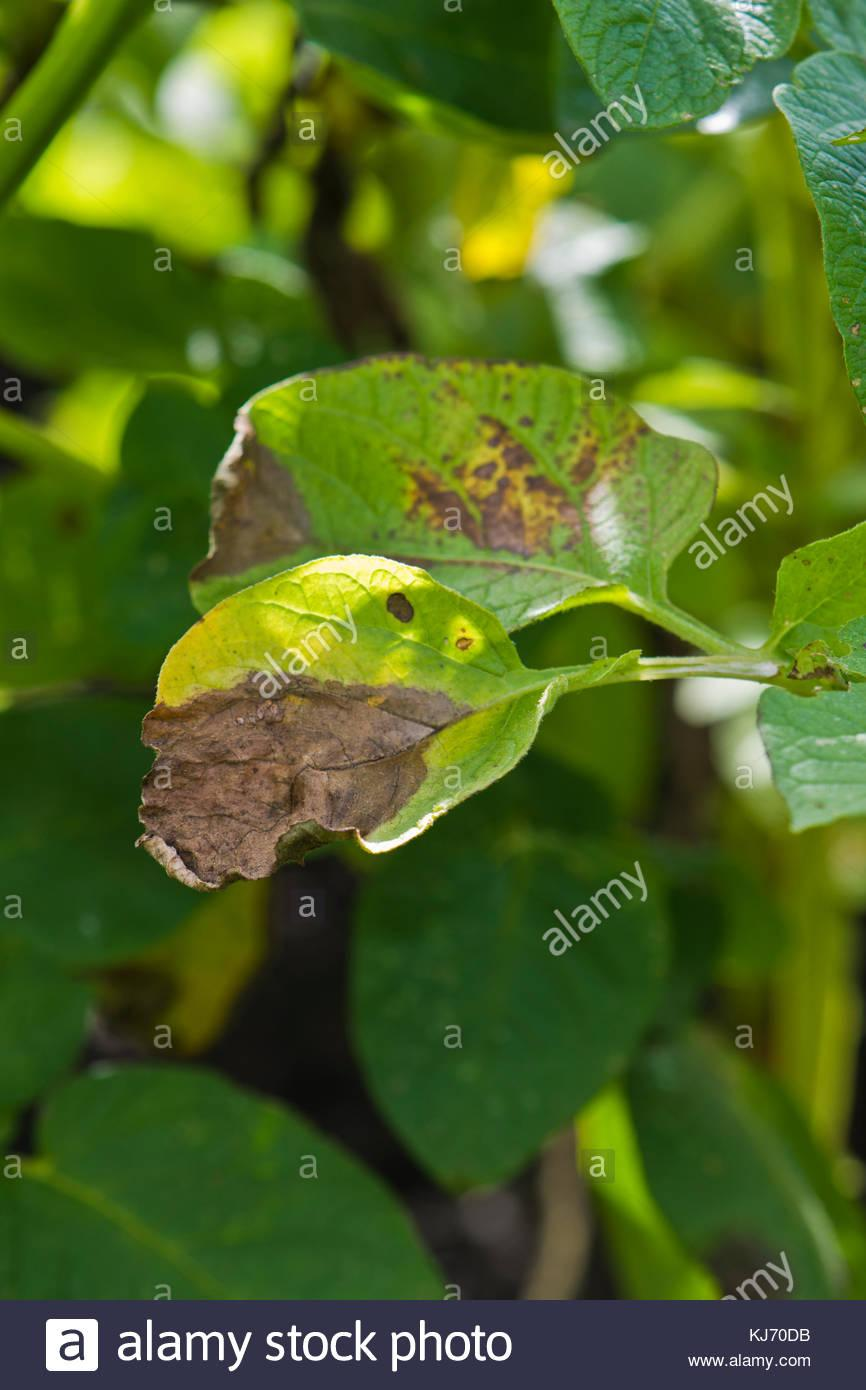Potato leaf late blight: (181, 341, 712, 646), (131, 551, 580, 873)
